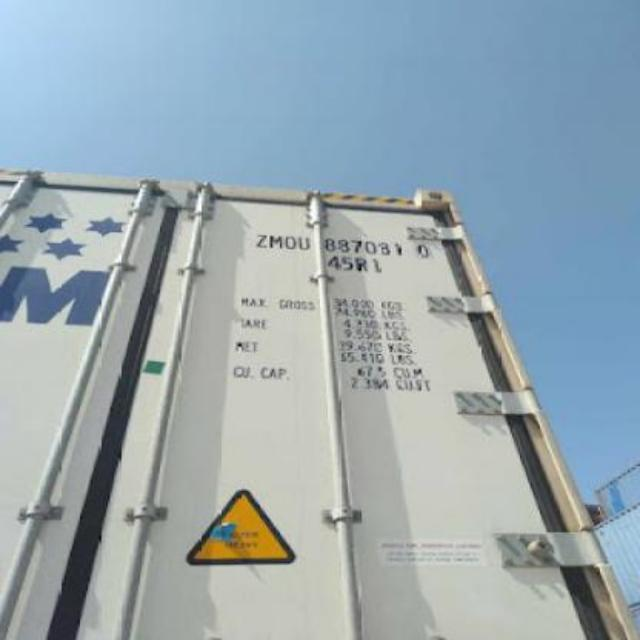0: (416, 244, 429, 260), (364, 240, 378, 254)
1: (394, 240, 402, 256)
7: (352, 238, 362, 254)
8: (380, 240, 392, 256), (324, 238, 336, 252), (338, 238, 350, 252)
M: (268, 234, 284, 250)
O: (284, 236, 298, 252)
U: (298, 237, 312, 253)
Z: (255, 233, 268, 249)
